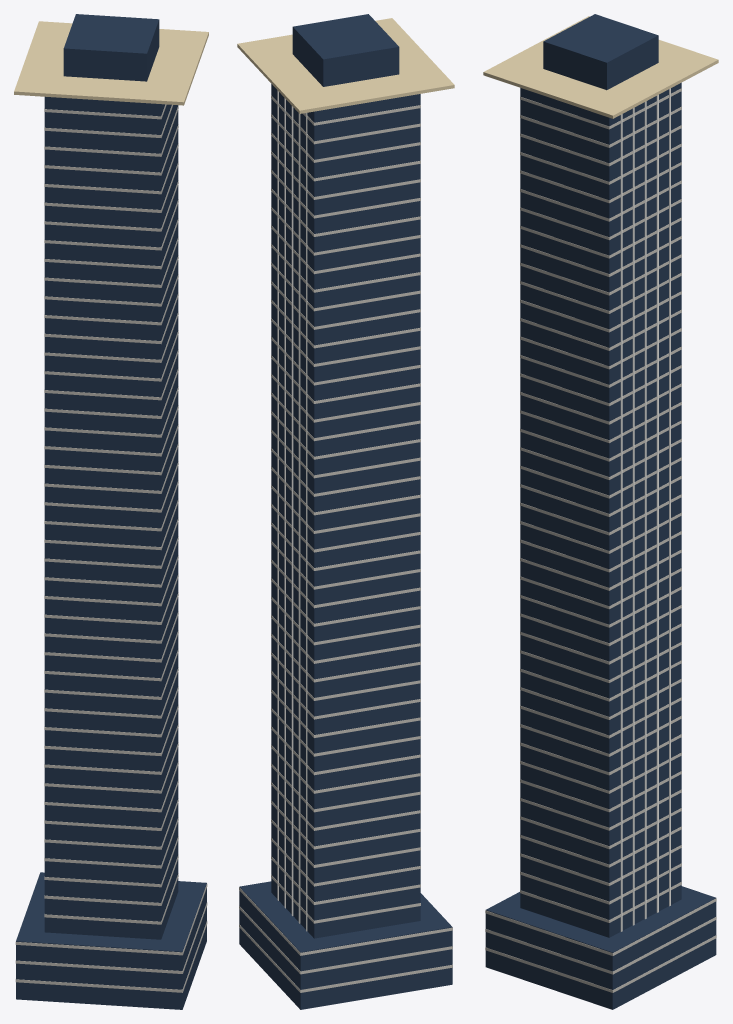
File: tiara-united-tower-2.glb
3 renders of one model, left to right at view 1: azimuth 30°, elevation 25°; view 2: azimuth 150°, elevation 25°; view 3: azimuth 270°, elevation 25°, orthographic.
Visible parts, largest first — view 1: B_399867027_tiara-united-tower-2, B_399867027_tiara-united-tower-2_gold, band.061, band.063, band.062, band.075, band.078, band.083, band.086, band.089, band.097, band.101 (+37 smaller); view 2: B_399867027_tiara-united-tower-2, B_399867027_tiara-united-tower-2_gold, mullion.008, mullion.007, mullion.009, mullion.005, mullion.006, band.062, band.063, band.061, band.082, band.073 (+41 smaller); view 3: B_399867027_tiara-united-tower-2, B_399867027_tiara-united-tower-2_gold, mullion.005, mullion.006, mullion.007, mullion.008, mullion.009, band.062, band.061, band.063, band.072, band.083 (+42 smaller).
Part boxes in pixels (x1,y1,x2,y2): B_399867027_tiara-united-tower-2: (16,14,206,1009); B_399867027_tiara-united-tower-2_gold: (14,21,208,105); band.061: (15,921,207,992); band.063: (15,883,207,955); band.062: (15,902,207,973); band.075: (44,667,178,718); band.078: (44,611,178,662); band.083: (44,518,178,568); band.086: (44,461,178,512); band.089: (44,405,178,456); band.097: (44,255,178,306); band.101: (44,180,178,231); B_399867027_tiara-united-tower-2: (239,14,452,1009); B_399867027_tiara-united-tower-2_gold: (237,18,454,113); mullion.008: (298,113,300,923); mullion.007: (291,106,293,915); mullion.009: (306,113,307,931); mullion.005: (277,90,278,900); mullion.006: (284,98,285,908); band.062: (239,906,452,974); band.063: (239,887,452,955); band.061: (239,924,452,992); band.082: (271,540,420,589); band.073: (271,707,420,756); B_399867027_tiara-united-tower-2: (485,14,716,1009); B_399867027_tiara-united-tower-2_gold: (483,16,718,118); mullion.005: (620,114,622,931); mullion.006: (632,107,634,925); mullion.007: (644,101,646,919); mullion.008: (656,95,658,912); mullion.009: (669,88,670,906); band.062: (485,916,716,974); band.061: (485,935,716,992); band.063: (485,898,716,955); band.072: (520,734,681,775); band.083: (520,531,681,572).
Size of the model in its own units: 52.08 by 225 by 51.95.
